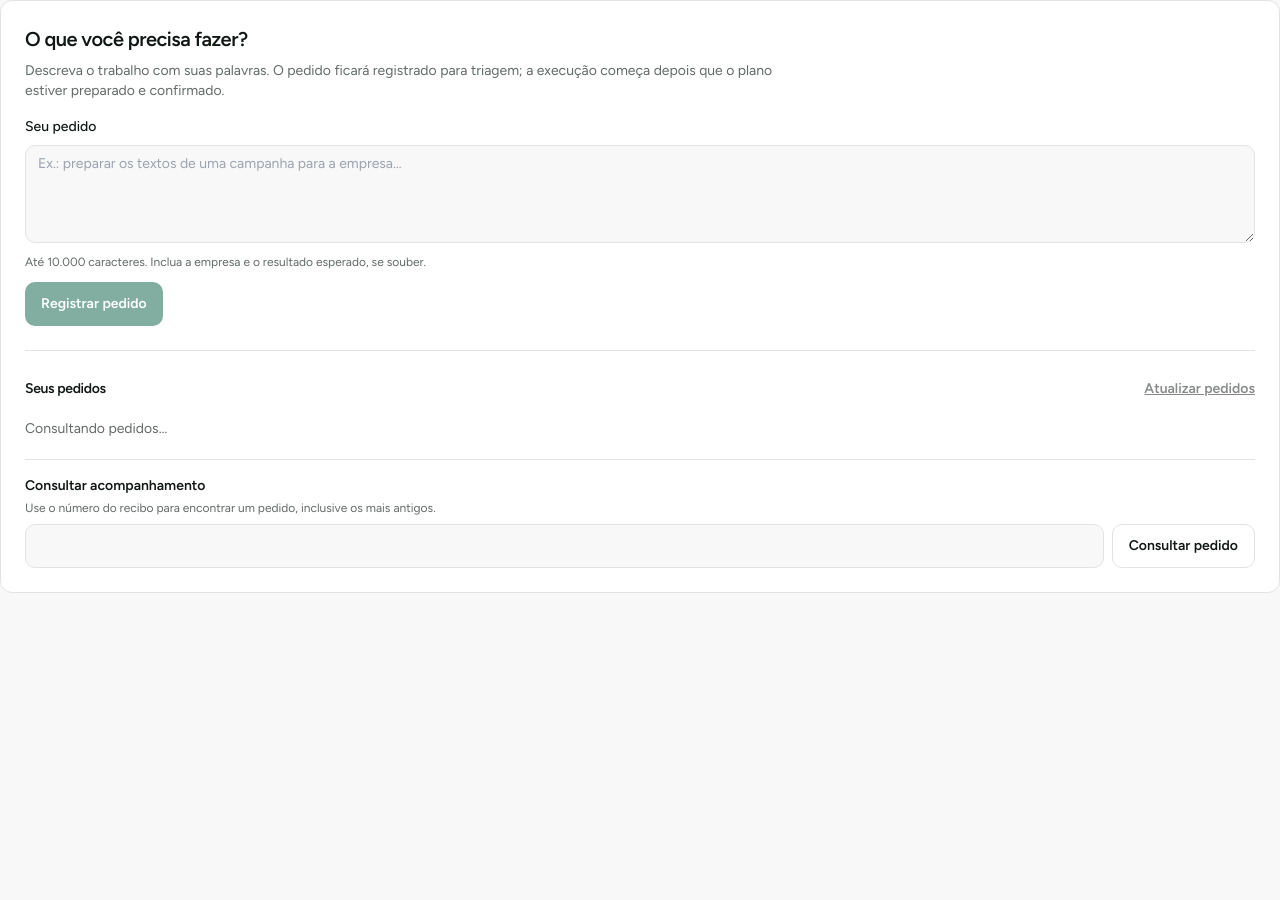
Test case: não confirma uma mensagem recusada só porque outro evento existe no mesmo acompanhamento
Type "Campanha da eLiving™" into the text box labelled "Seu pedido" at (640, 194), box x1=25 y1=145 x2=1255 y2=243
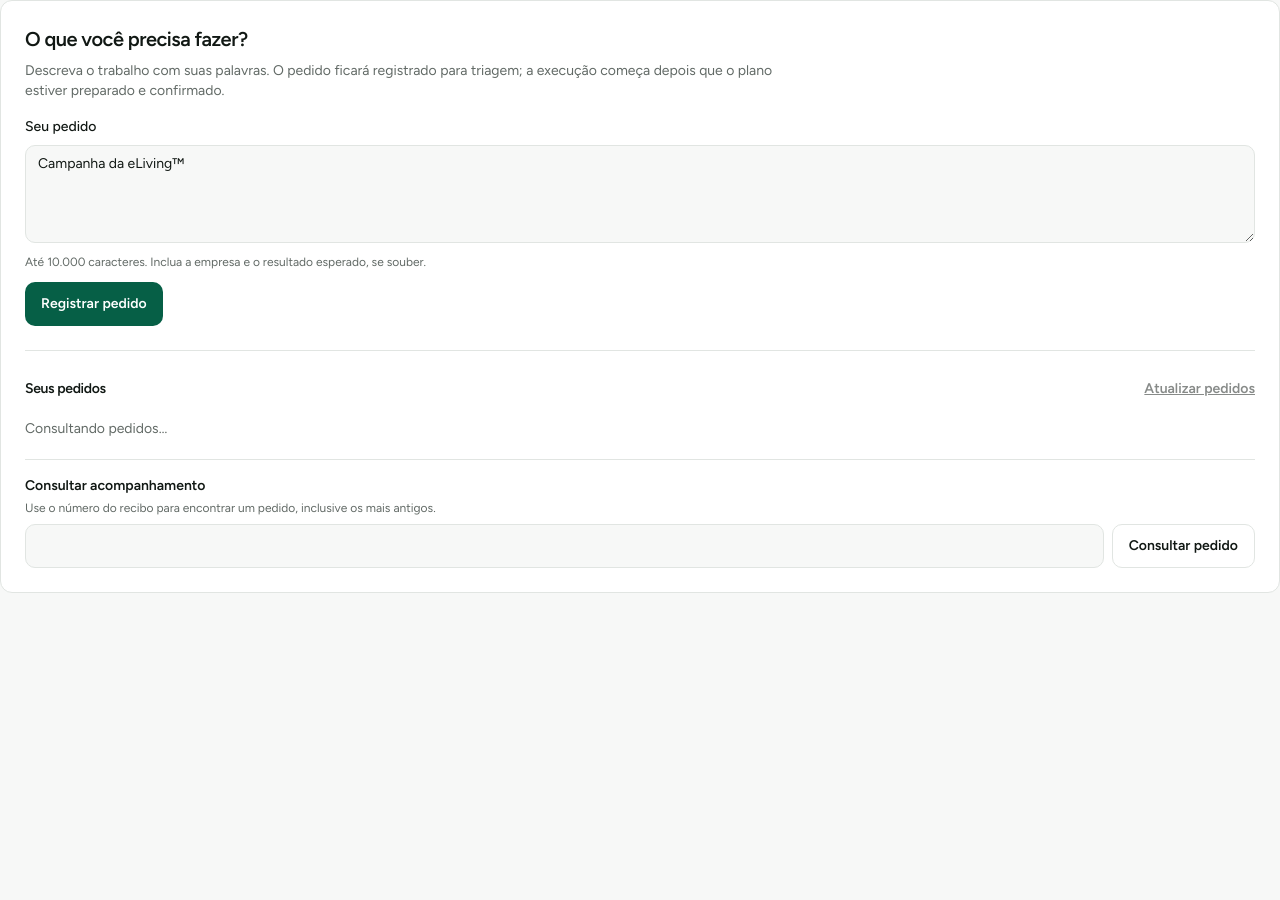
Click the button "Registrar pedido" at (94, 304), box x1=25 y1=282 x2=163 y2=326
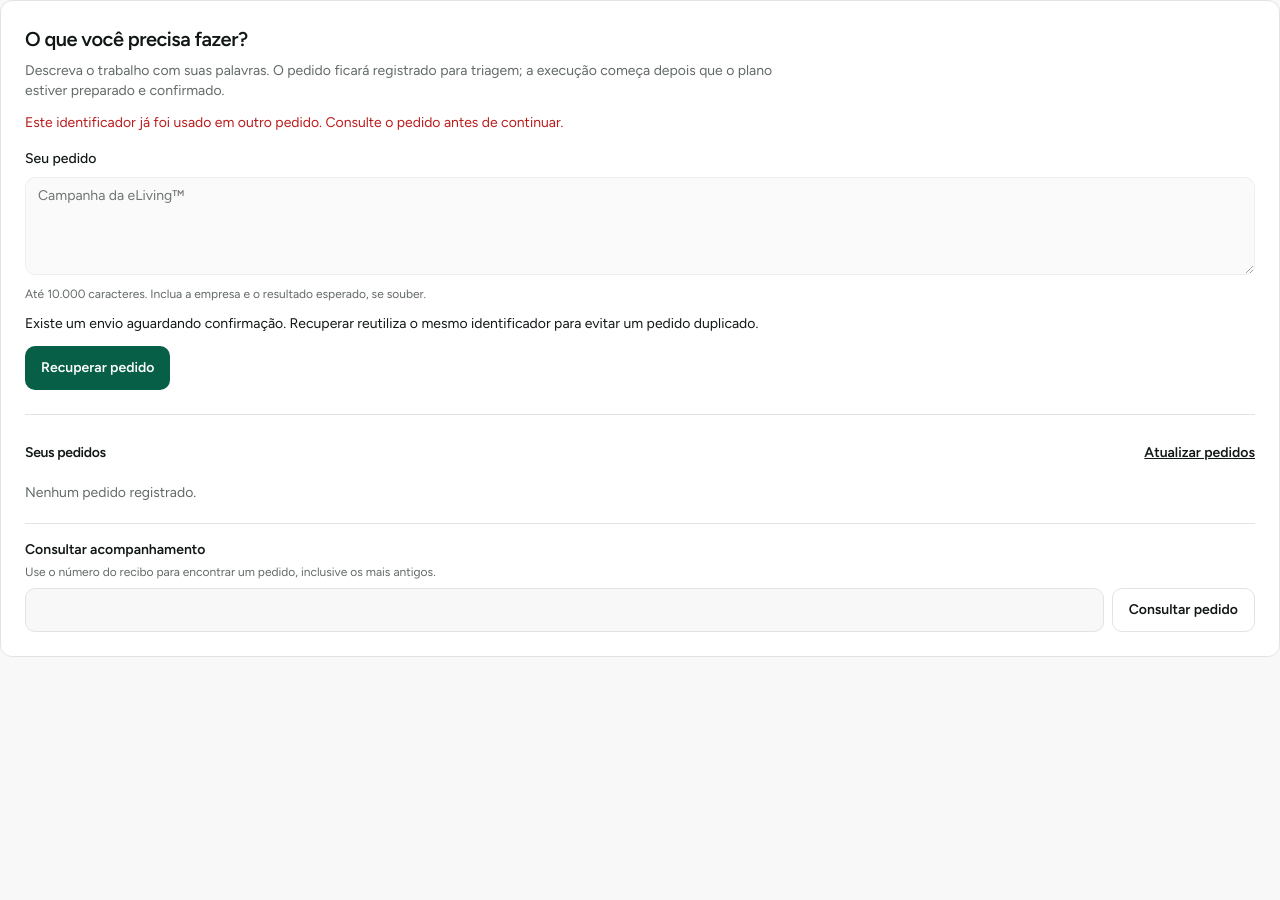
Result: the text "Este identificador já foi usado" is shown at x1=25 y1=114 x2=564 y2=131
